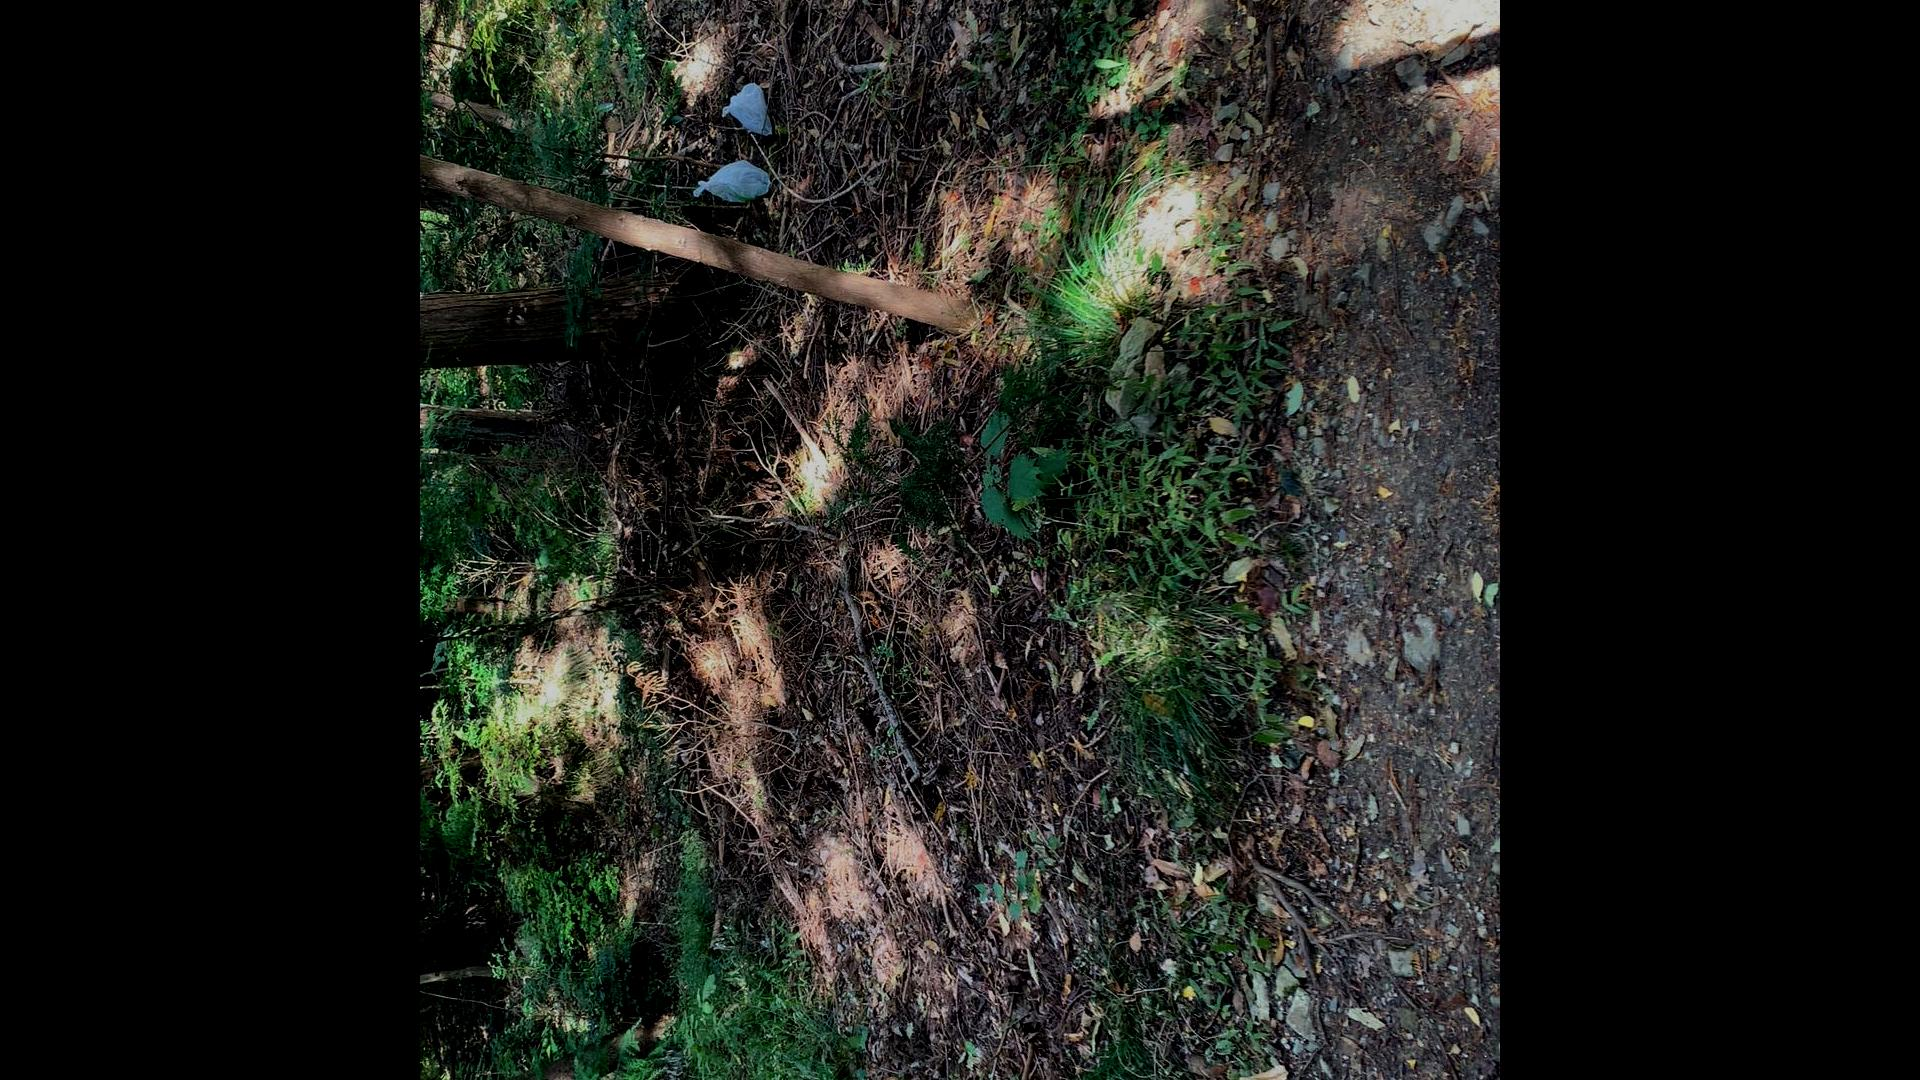white_bag: (688, 156, 773, 207), (719, 80, 775, 141)
